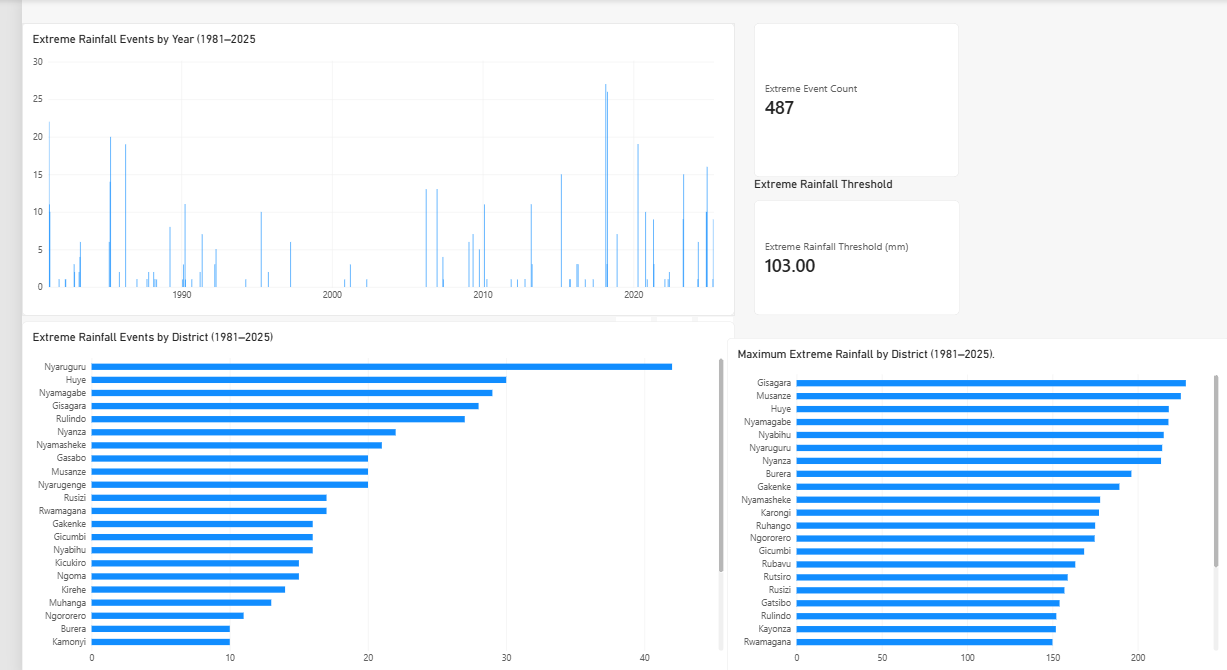

This screenshot's page, from the dashboard's own definition file:
{"tool":"powerbi","page":{"name":"Extreme & Decision Support","canvas":[1920,1080],"ordinal":3},"visuals":[{"type":"cardVisual","fields":{"Data":["public vw_annual_rainfall.Extreme Event Count"]},"box":[1164.3,38.2,326.9,245.7],"z":2},{"type":"clusteredColumnChart","title":"Extreme Rainfall Events by Year (1981–2025","fields":{"Category":["public vw_extreme_rainfall_events.date"],"Y":["CountNonNull(public vw_extreme_rainfall_events.district_name)"]},"box":[0,38.2,1133.3,465.3],"z":4},{"type":"clusteredBarChart","title":"Extreme Rainfall Events by District (1981–2025)","fields":{"Category":["public vw_extreme_rainfall_events.district_name"],"Y":["CountNonNull(public vw_extreme_rainfall_events.date)"]},"box":[0,513,1133.3,567.8],"z":5},{"type":"clusteredBarChart","title":"Maximum Extreme Rainfall by District (1981–2025).","fields":{"Category":["public vw_extreme_rainfall_events.district_name"],"Y":["Max(public vw_extreme_rainfall_events.rainfall_mm)"]},"box":[1121.4,539.2,799.3,541.6],"z":6},{"type":"cardVisual","title":"Extreme Rainfall Threshold","fields":{"Data":["Max(public vw_extreme_rainfall_events.threshold_mm)"]},"box":[1164,284,327,219],"z":7}]}

Visuals, with their boxes on the page's 1920x1080 design canvas (x1, y1, x2, y2). These are canvas units, not pixel positions in the 1227x670 screenshot, which may show the page scaled, cropped or inside an application window:
cardVisual - public vw_annual_rainfall.Extreme Event Count: 1164 38 1491 284
"Extreme Rainfall Events by Year (1981–2025" clusteredColumnChart: 0 38 1133 504
"Extreme Rainfall Events by District (1981–2025)" clusteredBarChart: 0 513 1133 1081
"Maximum Extreme Rainfall by District (1981–2025)." clusteredBarChart: 1121 539 1921 1081
"Extreme Rainfall Threshold" cardVisual: 1164 284 1491 503
